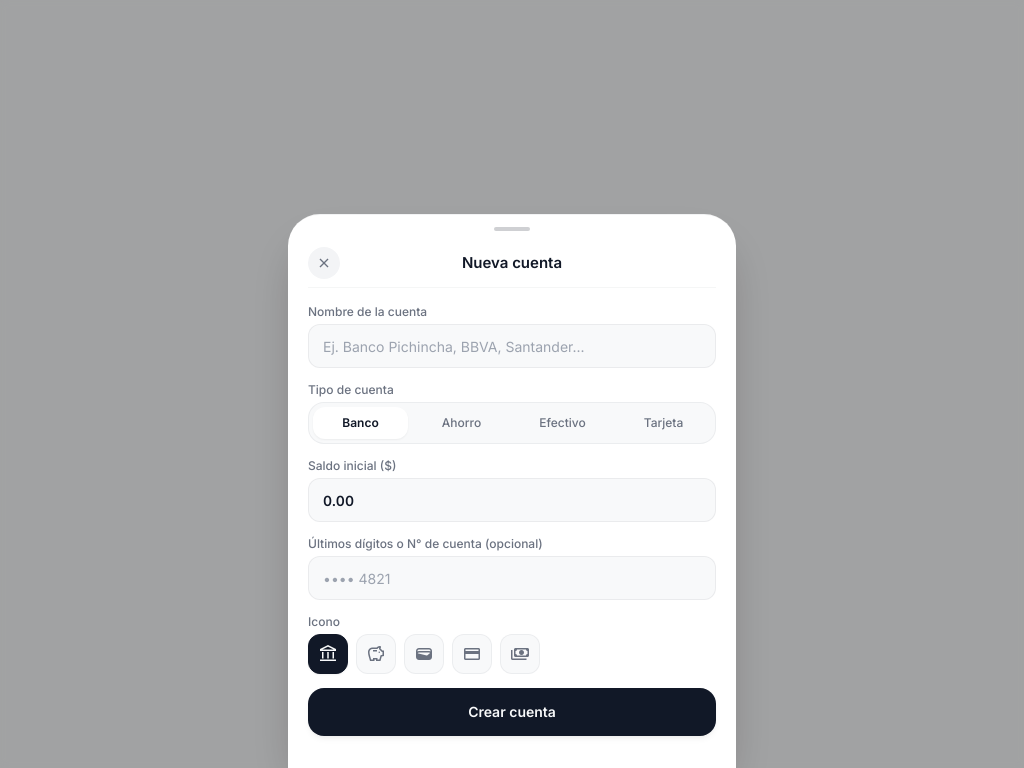
it: AccountModal › muestra la meta y los dígitos solo para ahorros
The image size is (1024, 768).
Expected: the field with placeholder "Ej. 6000.00" is not shown
Click the button "Ahorro" at [462, 423], box [414,407,509,439]
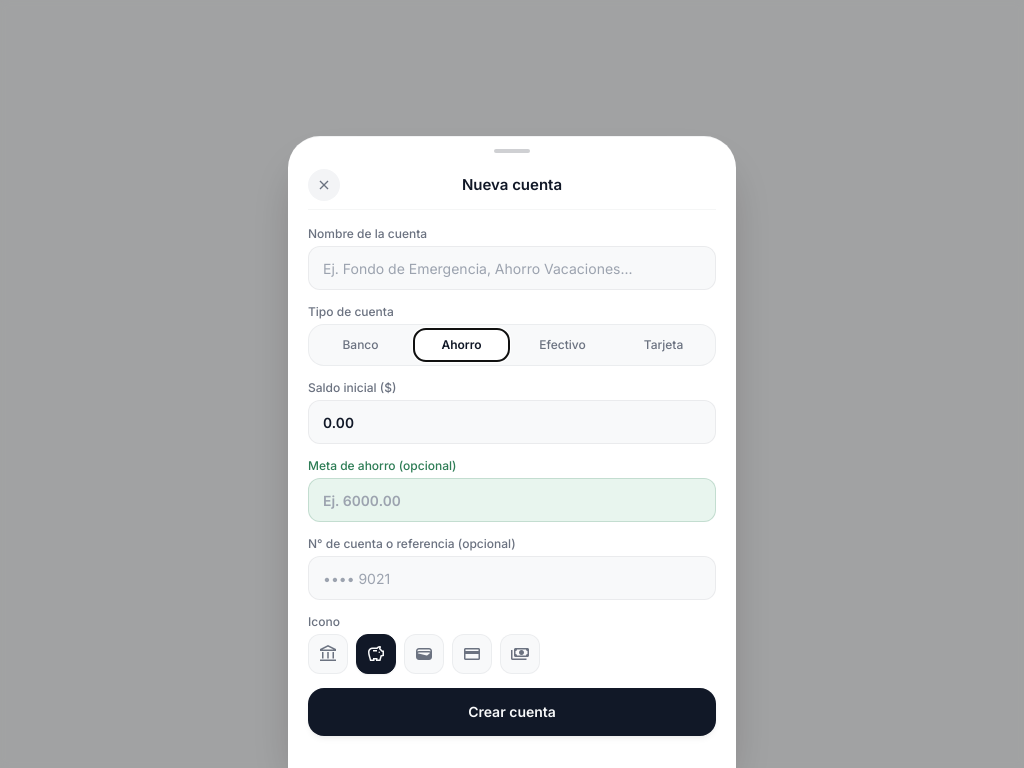
Expected: the number field with placeholder "Ej. 6000.00" is shown, [308,478,716,522]
Expected: the field with placeholder "•••• 9021" is shown, [308,556,716,600]
